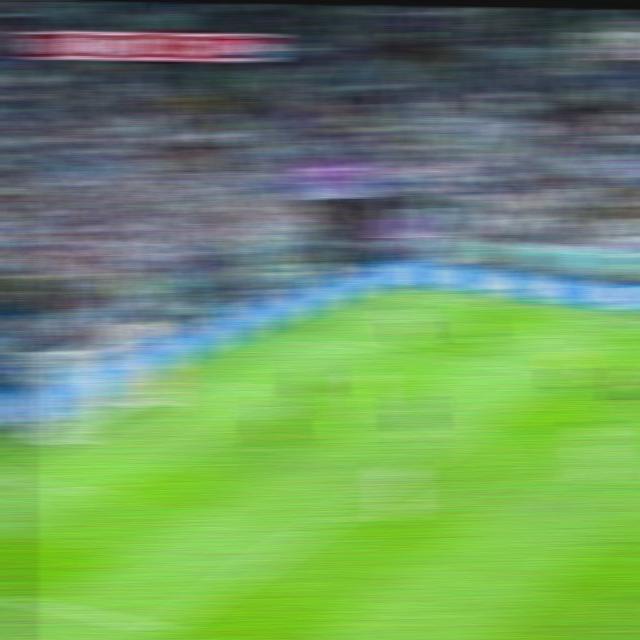bigarea_bottom_inner: (141, 613, 182, 640)
bigarea_top_inner: (541, 364, 574, 383)
bigarea_top_outter: (295, 327, 329, 346)
bottom_arc_area_intersection: (311, 506, 349, 530)
corner: (390, 289, 425, 302)
smallarea_bottom_inner: (76, 478, 117, 508)
smallarea_bottom_outter: (0, 464, 21, 488)
smallarea_top_inner: (277, 384, 311, 403)
smallarea_top_outter: (197, 370, 232, 391)
top_arc_area_intersection: (448, 421, 485, 441)
